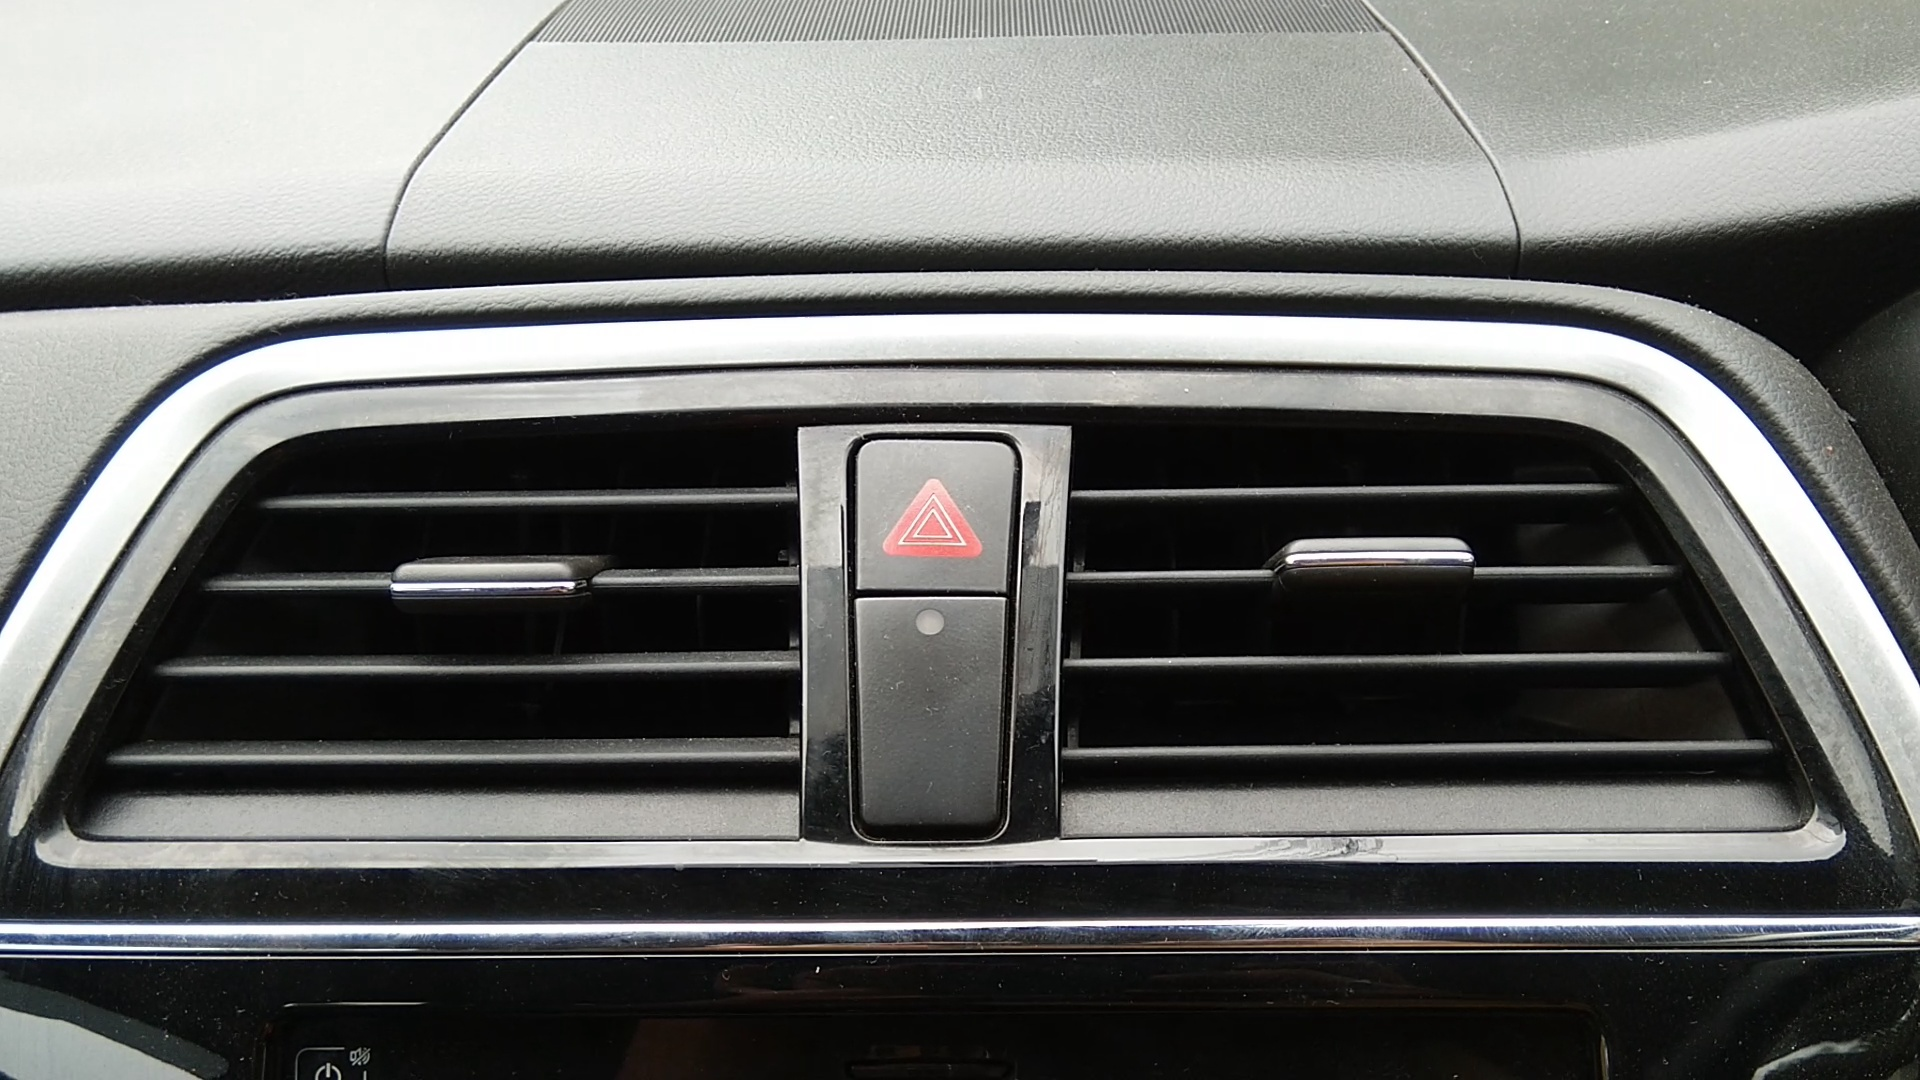parking_button: (833, 419, 1034, 626)
